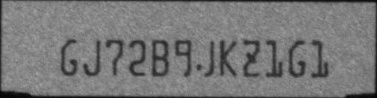1: (265, 39, 284, 77), (312, 38, 329, 78)
2: (128, 38, 145, 77)
7: (106, 39, 124, 76)
9: (174, 38, 191, 78)
B: (151, 39, 170, 77)
G: (59, 38, 79, 76), (287, 40, 306, 77)
J: (196, 39, 215, 77), (82, 40, 101, 77)
K: (219, 37, 237, 77)
Z: (242, 37, 262, 79)
